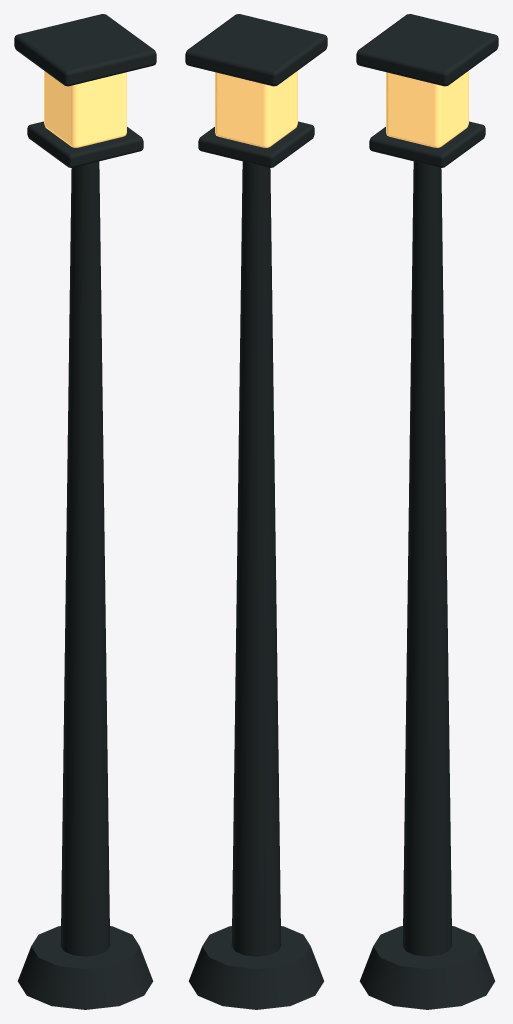
File: lamp-faa7f3c26b39.glb
The picture shows the model from 3 angles, left to right: view 1: azimuth 30°, elevation 25°; view 2: azimuth 150°, elevation 25°; view 3: azimuth 330°, elevation 25°; orthographic projection.
Parts seen in each view (by area): view 1: Charcoal, Lantern; view 2: Charcoal, Lantern; view 3: Charcoal, Lantern.
Boxes of the visible parts, box(x1,y1,x2,y2) form: Charcoal: box(14, 14, 156, 1009); Lantern: box(44, 71, 126, 147); Charcoal: box(185, 14, 327, 1009); Lantern: box(215, 71, 297, 147); Charcoal: box(356, 14, 498, 1009); Lantern: box(386, 71, 468, 147).
Size of the model in its own units: 0.7 by 5.34 by 0.7.
